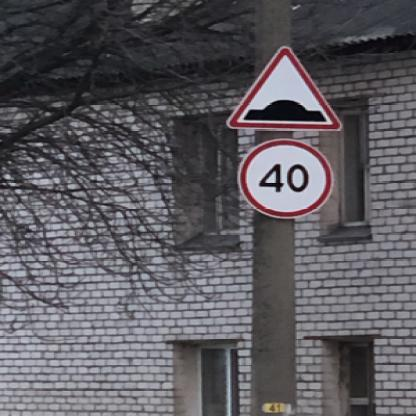speedlimit: (239, 138, 330, 216)
